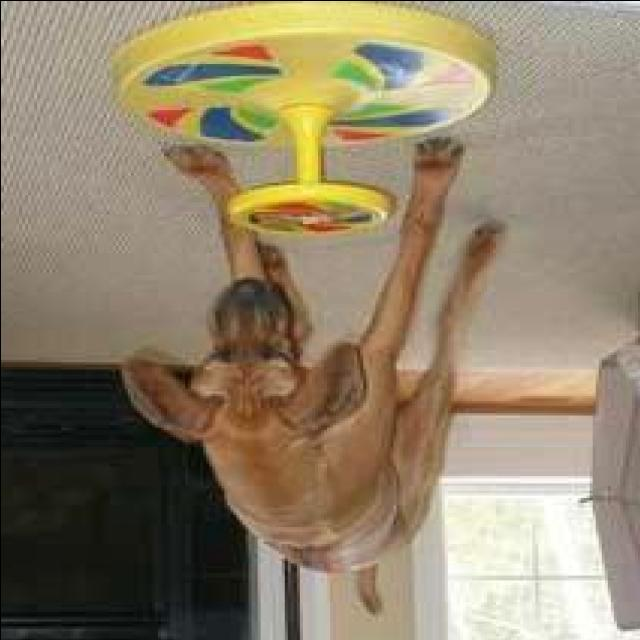rhodesian_ridgeback: (112, 135, 522, 626)
